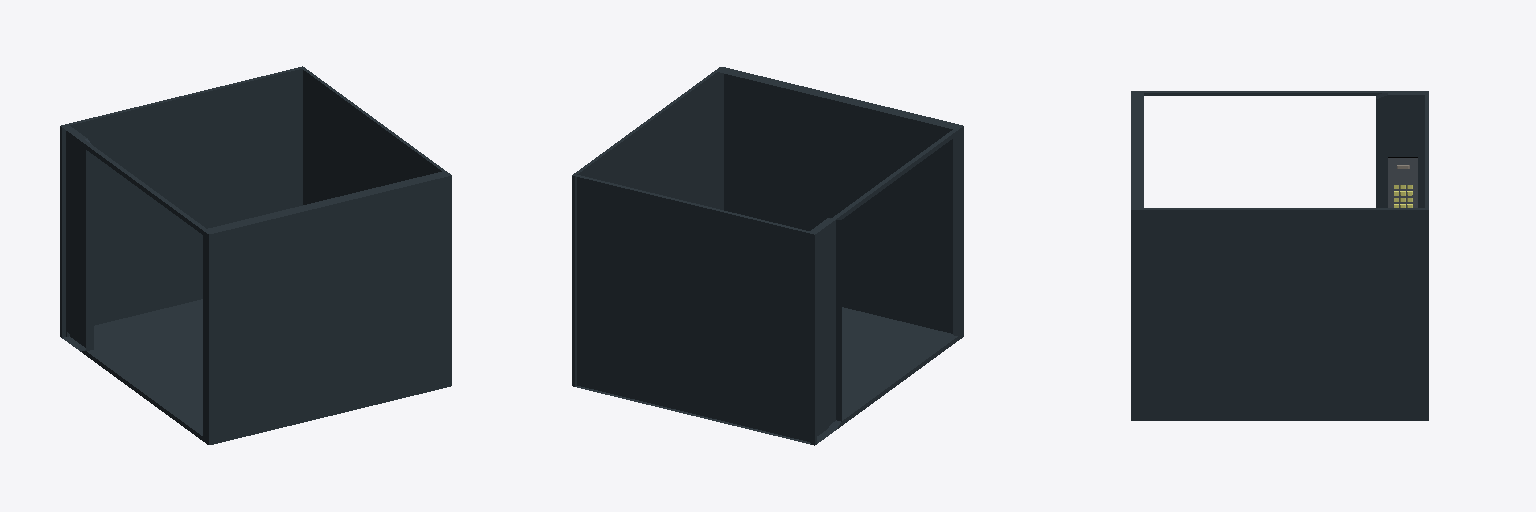
Rendered from elevator.obj.
The picture shows the model from 3 angles: view 1: azimuth 30°, elevation 25°; view 2: azimuth 150°, elevation 25°; view 3: azimuth 270°, elevation 25°; orthographic projection.
Parts seen in each view (by area): view 1: polySurface34; view 2: polySurface34; view 3: polySurface34.
Part boxes in pixels (bbox=[...]): polySurface34: bbox=[60, 66, 451, 444]; polySurface34: bbox=[572, 67, 963, 445]; polySurface34: bbox=[1131, 91, 1428, 420].
Bounding box in the file's own units: 5.9 × 4.89 × 6.26.